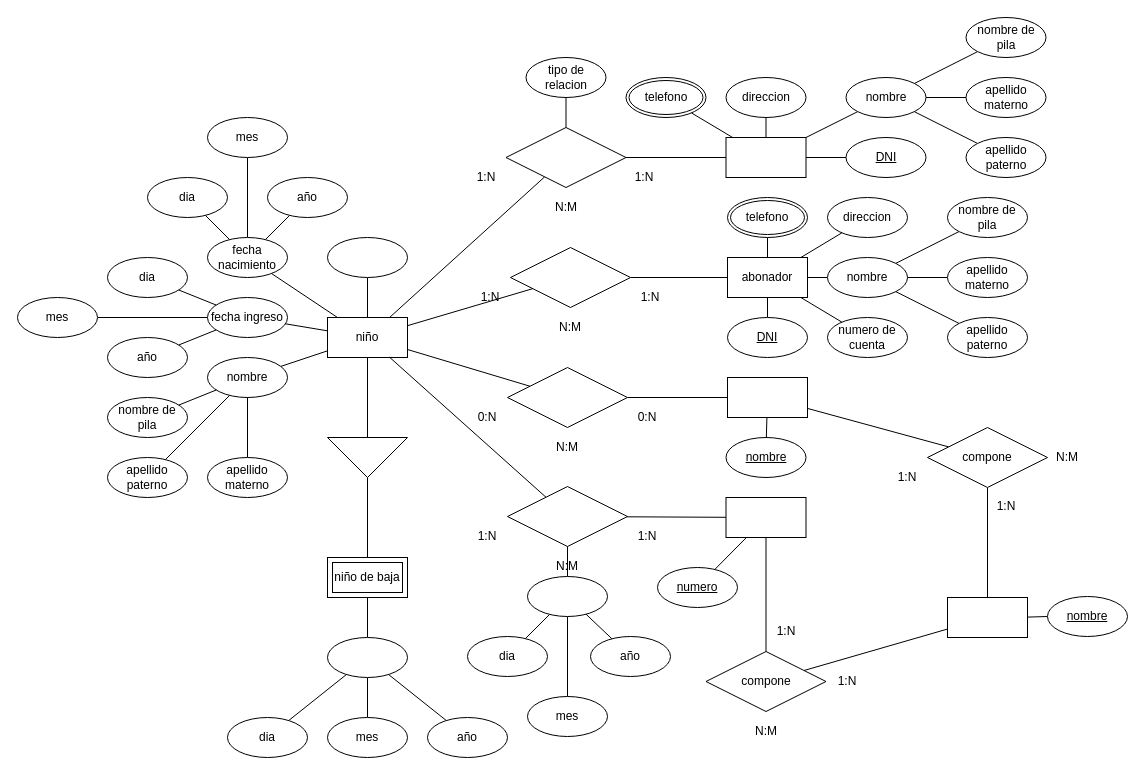
The diagram is 1145 pixels wide and 775 high, and some of its shapes have lost their labels. The shapes that lost their labels are listed below. From the top down, each one's centre as x and y in pixels, then its label:
At point 565,157: "recoge".
At point 765,157: "familiar".
At point 367,257: "numero matricula".
At point 570,277: "tiene".
At point 567,397: "alergia".
At point 767,397: "ingredientes".
At point 567,516: "come".
At point 765,517: "menu".
At point 567,596: "fecha de consumo".
At point 987,617: "platos".
At point 367,657: "fecha de baja".
